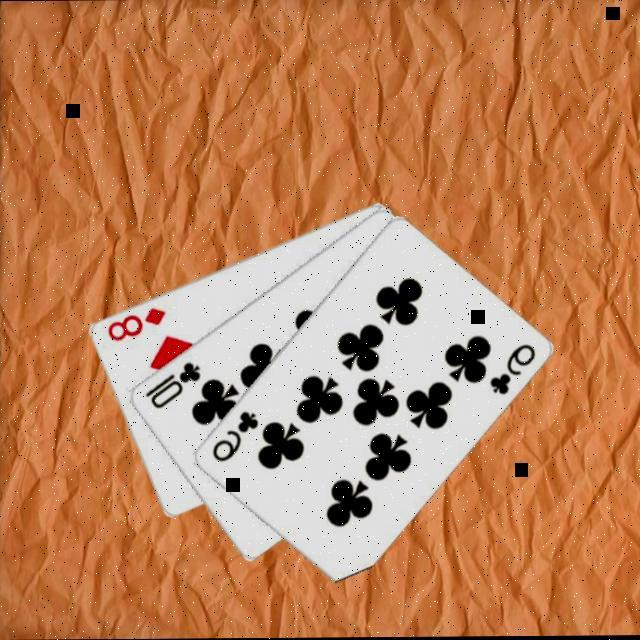10C: (140, 356, 202, 410)
8D: (103, 302, 168, 342)
9C: (207, 406, 260, 464), (484, 339, 537, 397)
